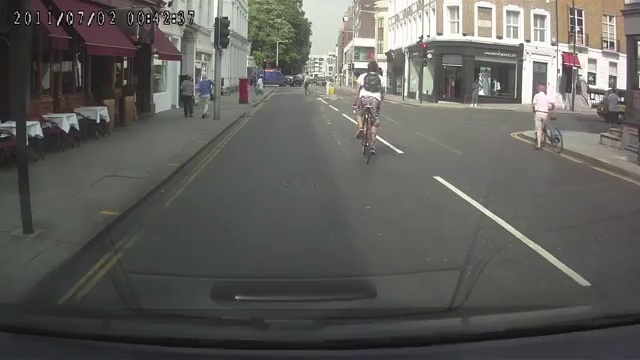cyclist_back: (353, 58, 386, 162), (528, 83, 568, 159)
